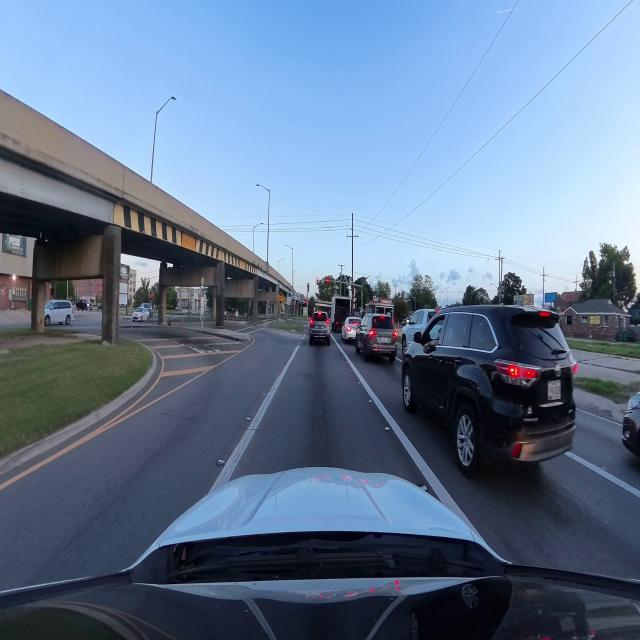car: (402, 306, 577, 476), (356, 314, 397, 362), (401, 309, 436, 352), (622, 392, 639, 456), (45, 300, 73, 325), (309, 312, 330, 344), (342, 317, 360, 341), (132, 307, 148, 321), (141, 303, 152, 319)
